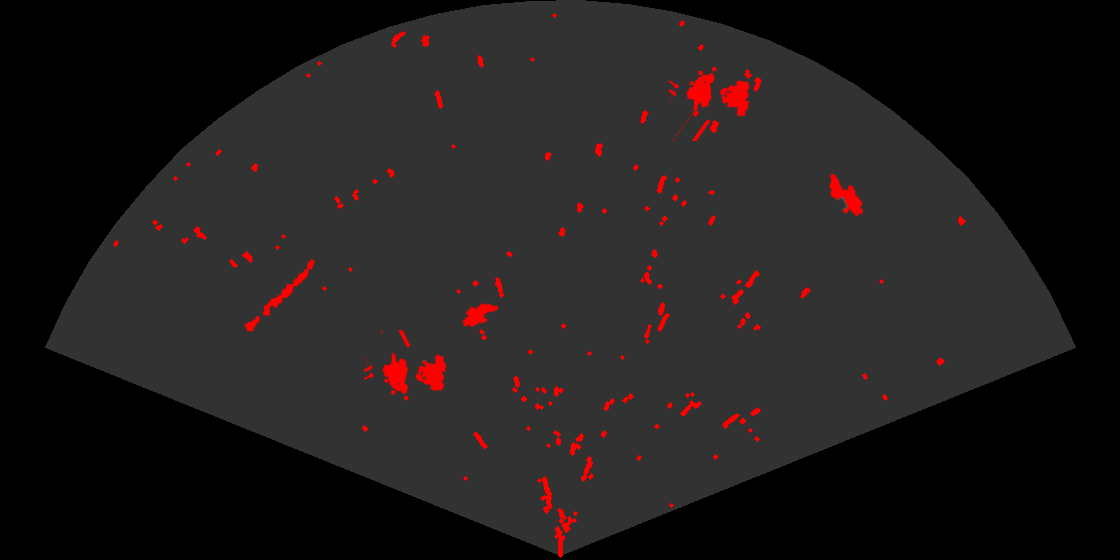AUV: (828, 172, 865, 218), (461, 301, 500, 329)
cage: (669, 65, 751, 141), (364, 330, 448, 402)
chain: (243, 258, 316, 333)
